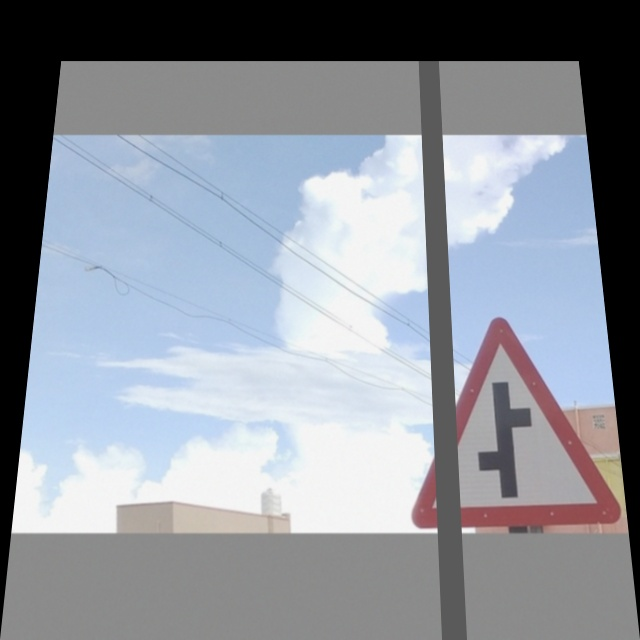Staggered_Intersection: (393, 318, 617, 520)
